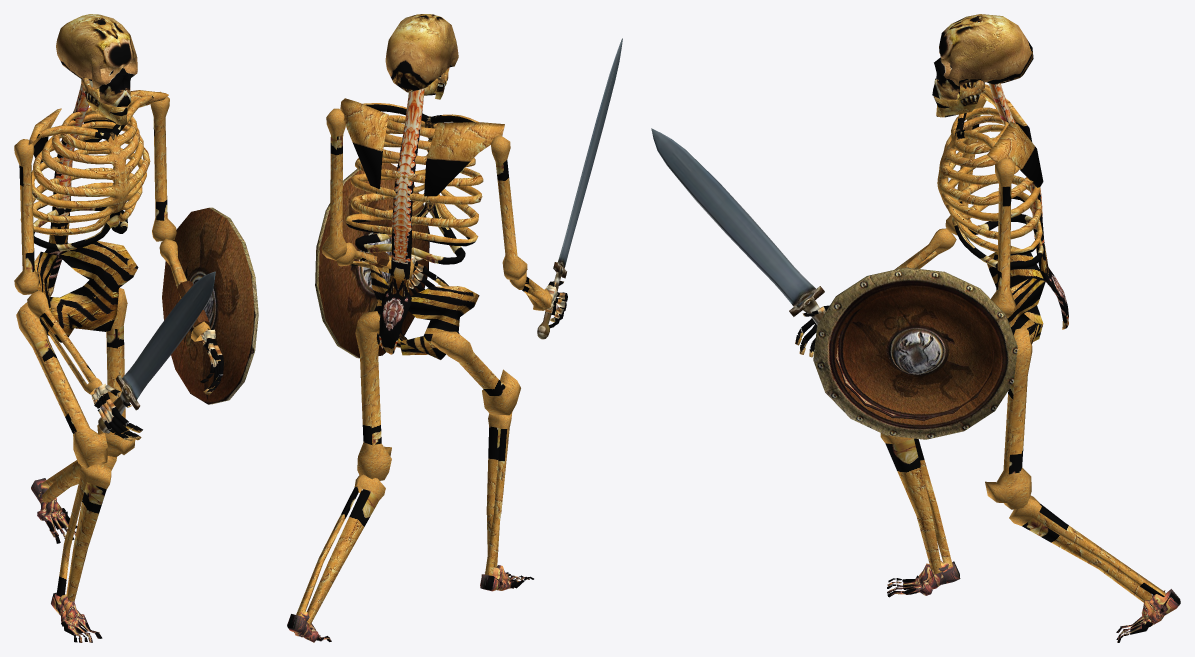
Rendered from Skeleton_000023.obj.
3 renders of one model, left to right at view 1: azimuth 30°, elevation 25°; view 2: azimuth 150°, elevation 25°; view 3: azimuth 270°, elevation 25°, orthographic. The views are drawn at different scales.
Parts seen in each view (by area): view 1: Costillar, Shield_Shield.001, Coxis, Femur, Skull, Tibia, Humero, Sword, Radio, Feet, Hands, Omoplato (+1 smaller); view 2: Costillar, Shield_Shield.001, Femur, Tibia, Omoplato, Humero, Skull, Coxis, Sword, Radio, Feet, Hands; view 3: Shield_Shield.001, Costillar, Tibia, Sword, Skull, Femur, Humero, Feet, Coxis, Omoplato, Mandibula, Radio.
Part boxes in pixels (x1,y1,x2,y2): Costillar: [20, 80, 153, 296]; Shield_Shield.001: [162, 207, 258, 404]; Coxis: [34, 241, 138, 342]; Femur: [16, 287, 135, 468]; Skull: [56, 14, 137, 106]; Tibia: [41, 456, 116, 601]; Humero: [14, 91, 176, 294]; Sword: [98, 271, 215, 433]; Radio: [27, 238, 210, 394]; Feet: [31, 478, 102, 642]; Hands: [91, 329, 223, 441]; Omoplato: [28, 90, 168, 163]; Costillar: [345, 88, 483, 354]; Shield_Shield.001: [315, 163, 429, 358]; Femur: [355, 311, 520, 480]; Tibia: [296, 412, 512, 625]; Omoplato: [340, 98, 504, 196]; Humero: [321, 108, 527, 280]; Skull: [385, 14, 458, 92]; Coxis: [370, 264, 479, 359]; Sword: [537, 38, 622, 339]; Radio: [336, 242, 551, 310]; Feet: [287, 565, 533, 642]; Hands: [409, 254, 567, 328]; Shield_Shield.001: [813, 267, 1017, 439]; Costillar: [937, 83, 1068, 329]; Tibia: [880, 433, 1165, 602]; Sword: [651, 128, 824, 324]; Skull: [932, 14, 1033, 99]; Femur: [985, 327, 1032, 509]; Humero: [945, 95, 1015, 318]; Feet: [887, 560, 1180, 642]; Coxis: [987, 246, 1045, 344]; Omoplato: [972, 82, 1043, 187]; Mandibula: [933, 80, 984, 117]; Radio: [895, 228, 956, 269].
Size of the model in its own units: 2.83 by 8.36 by 6.64.
5 materials, 5 textured.
